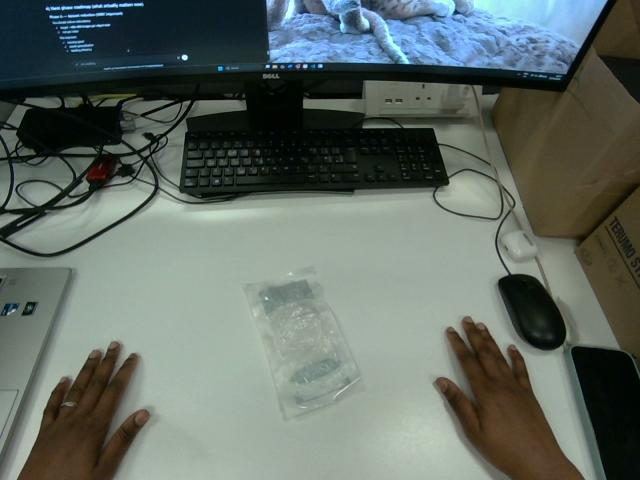gallipot: (245, 269, 359, 418)
